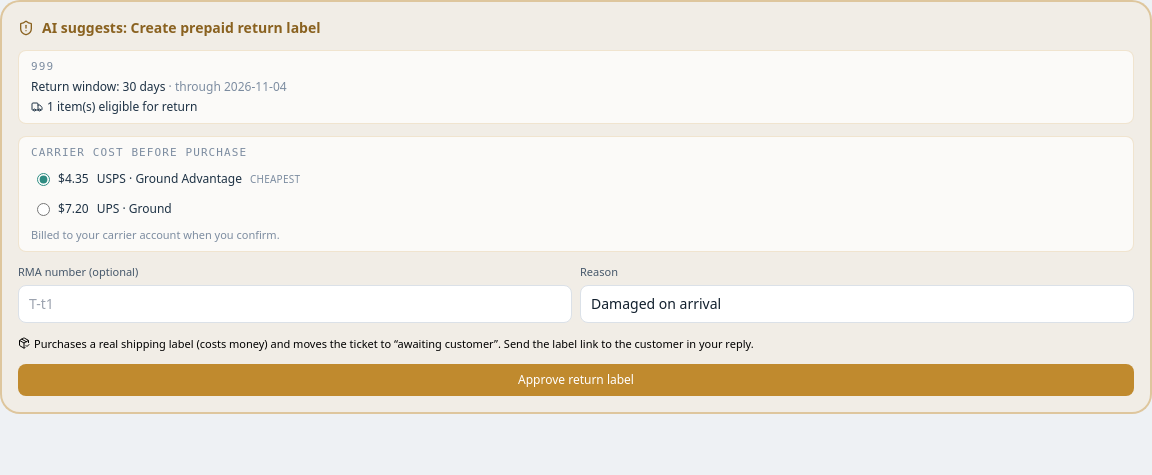
ReturnApprovalPanel › surfaces a server-side rejection instead of claiming success
The image size is (1152, 475).
Expected: the text "Return window: 30 days · through 2026-11-04" is shown, [31,78,287,95]
Click the button "Approve return label". click: (576, 380)
box: [18,364,1134,396]
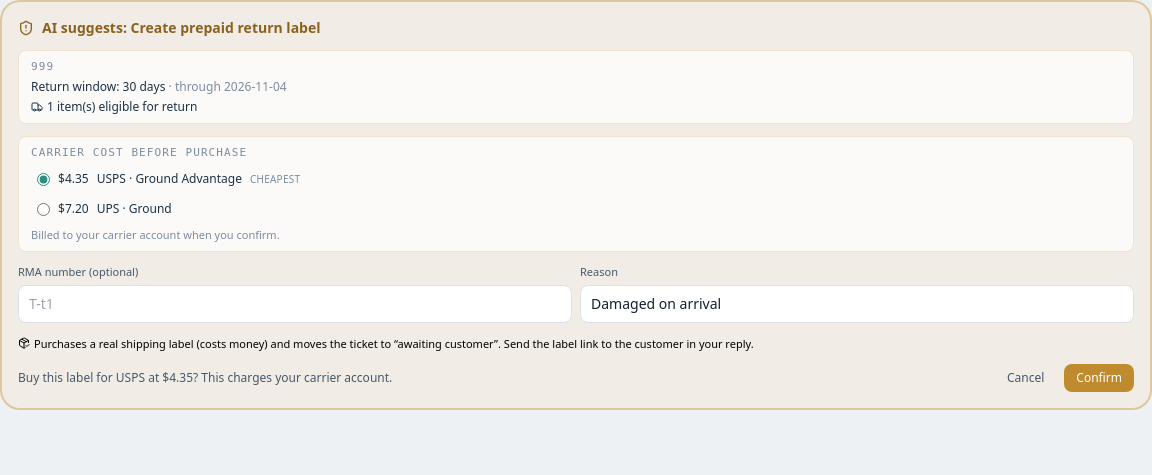
Click the button "Confirm". click: (1099, 378)
box: [1064,364,1134,392]
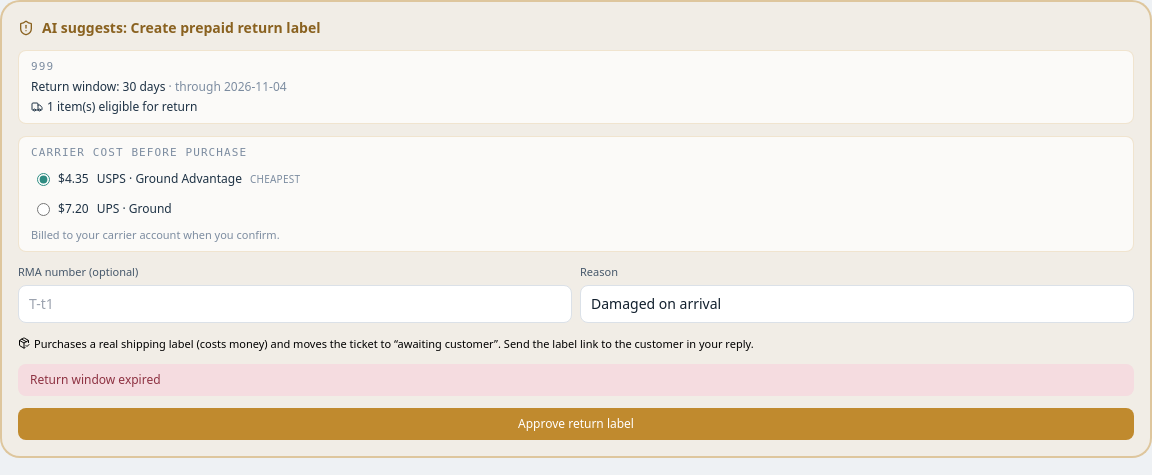
Expected: the text "Return window expired" is shown, [18,364,1134,396]
